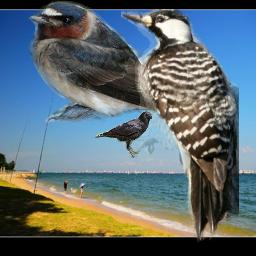Crow: (93, 111, 152, 158)
Swallow: (25, 0, 224, 131)
Woodpecker: (121, 9, 239, 243)
